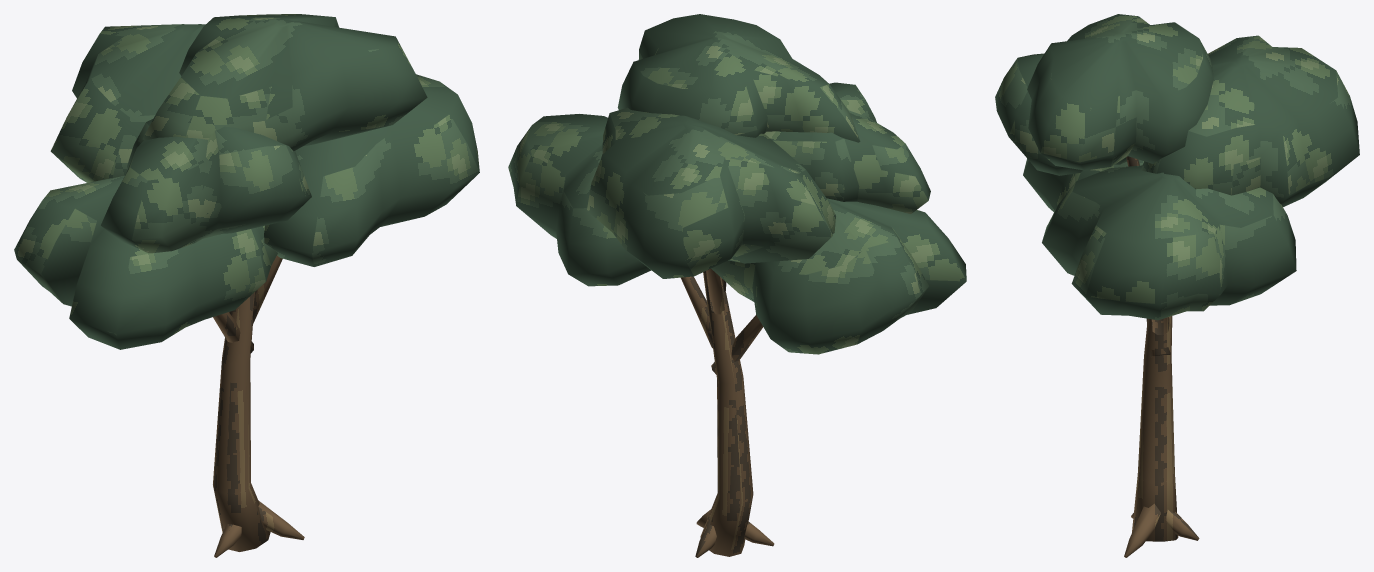
Rendered from broadleaf-natural.glb.
3 renders of one model, left to right at view 1: azimuth 30°, elevation 25°; view 2: azimuth 150°, elevation 25°; view 3: azimuth 270°, elevation 25°, orthographic. The views are drawn at different scales.
Visible parts, largest first — view 1: broadleaf-natural runtime mesh; view 2: broadleaf-natural runtime mesh; view 3: broadleaf-natural runtime mesh.
Part boxes in pixels (left/top/right/bottom): broadleaf-natural runtime mesh: left=14, top=14, right=479, bottom=557; broadleaf-natural runtime mesh: left=508, top=14, right=966, bottom=557; broadleaf-natural runtime mesh: left=995, top=14, right=1359, bottom=557.
Size of the model in its own units: 3.59 by 4.07 by 2.6.
Materials: 2 (2 with a texture image).
